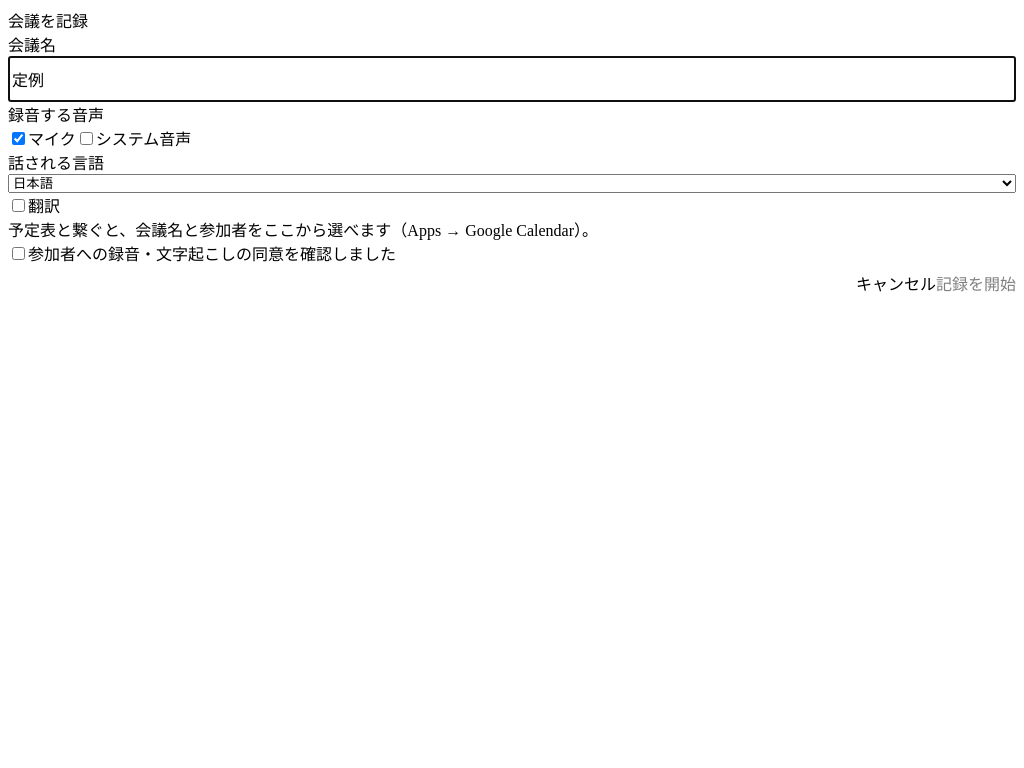
Test: StartConfirmation (§12.1) › only asks for a target language once translation is on
Click the checkbox labelled "翻訳". click: [18, 205]
box: [12,198,25,212]
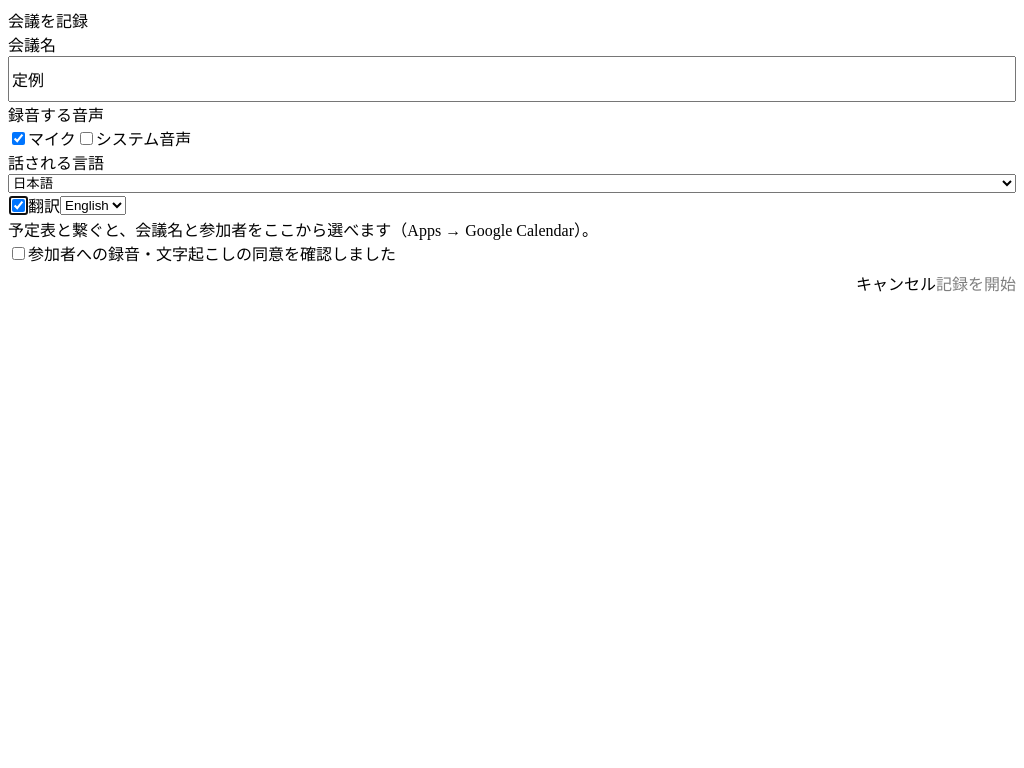
Expected: the dropdown named "翻訳先" is shown, [60,196,126,214]
